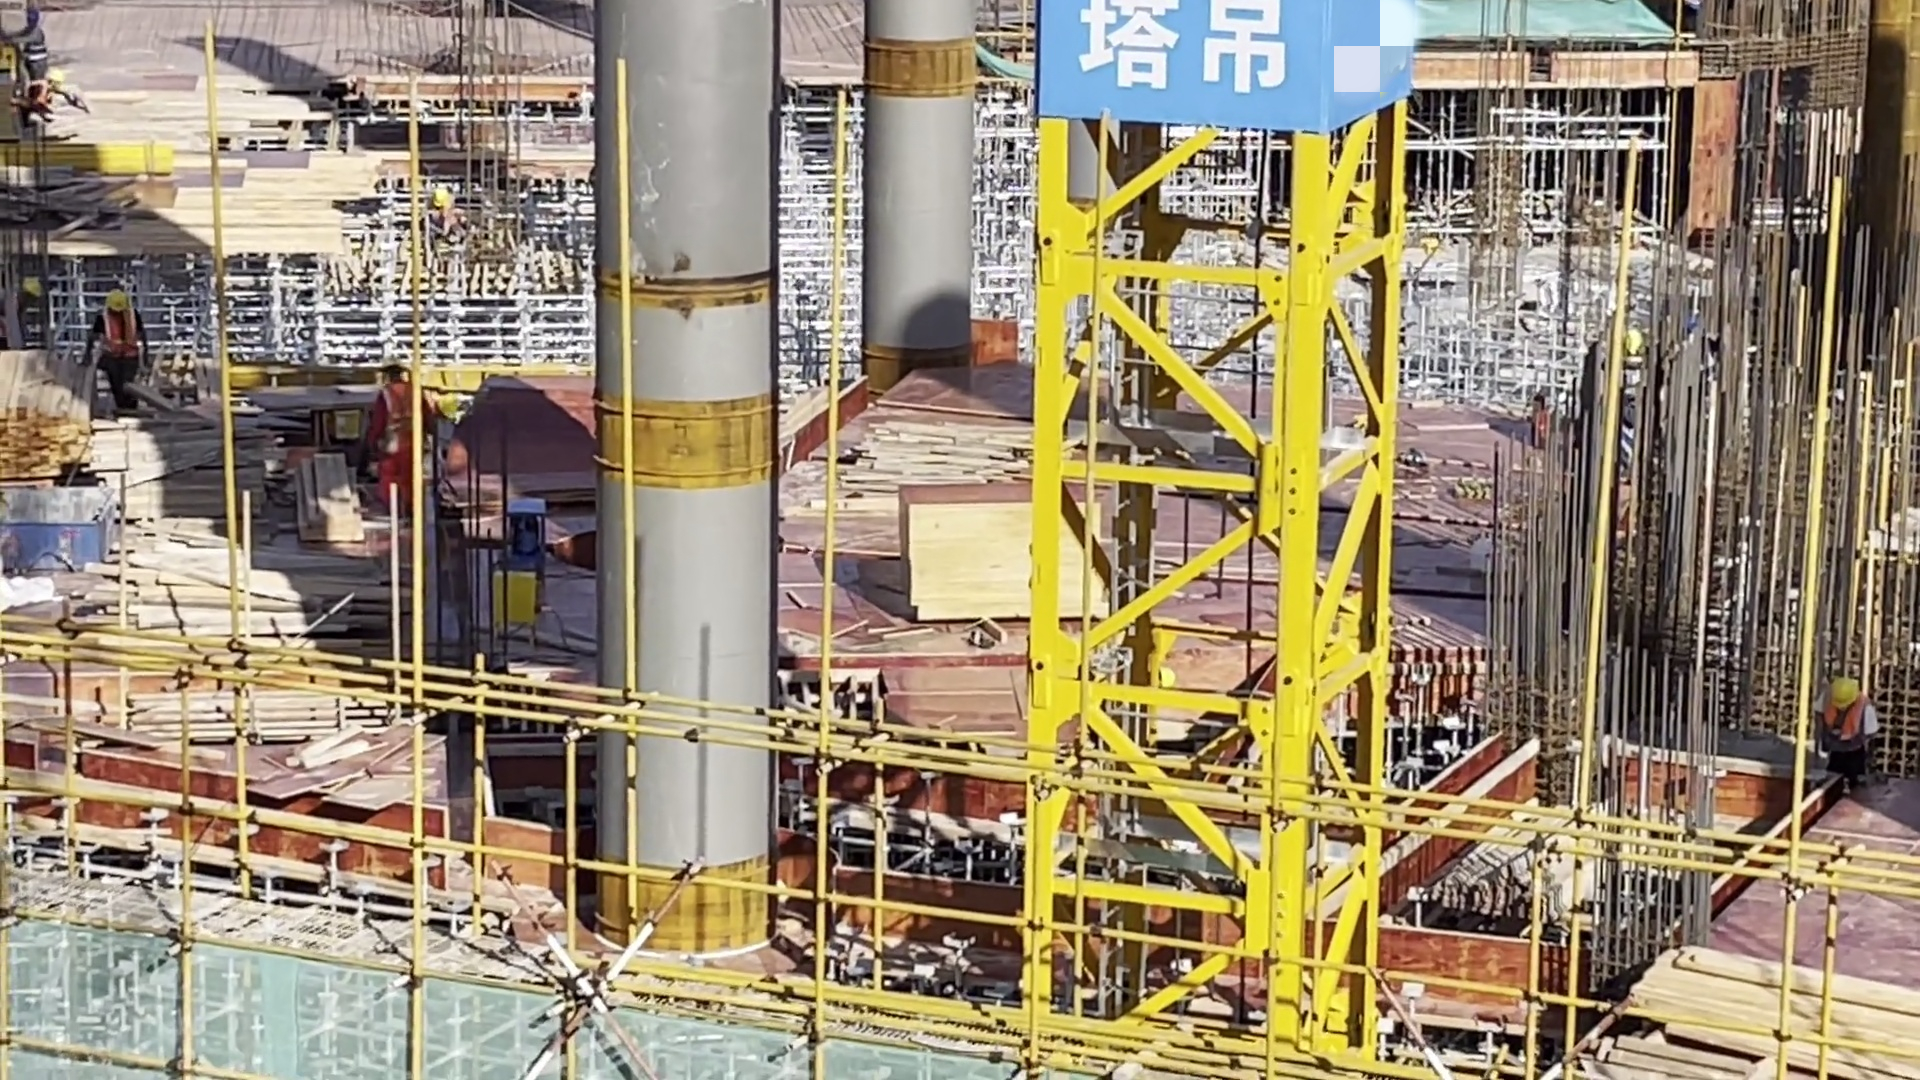board: (902, 487, 1115, 630)
helmet: (1823, 675, 1863, 718), (436, 389, 465, 431), (102, 287, 135, 322)
hopper: (1, 488, 131, 589)
person: (368, 358, 438, 538), (1806, 670, 1886, 797), (95, 281, 148, 420), (1, 73, 86, 137), (18, 5, 52, 80)
slogan: (1044, 1, 1381, 120)
vest: (1816, 696, 1871, 769), (380, 381, 424, 462), (98, 307, 145, 367), (16, 26, 51, 69), (18, 79, 49, 112)
wood: (1641, 944, 1910, 1080), (125, 538, 450, 646), (1, 345, 105, 486), (297, 448, 368, 551)
